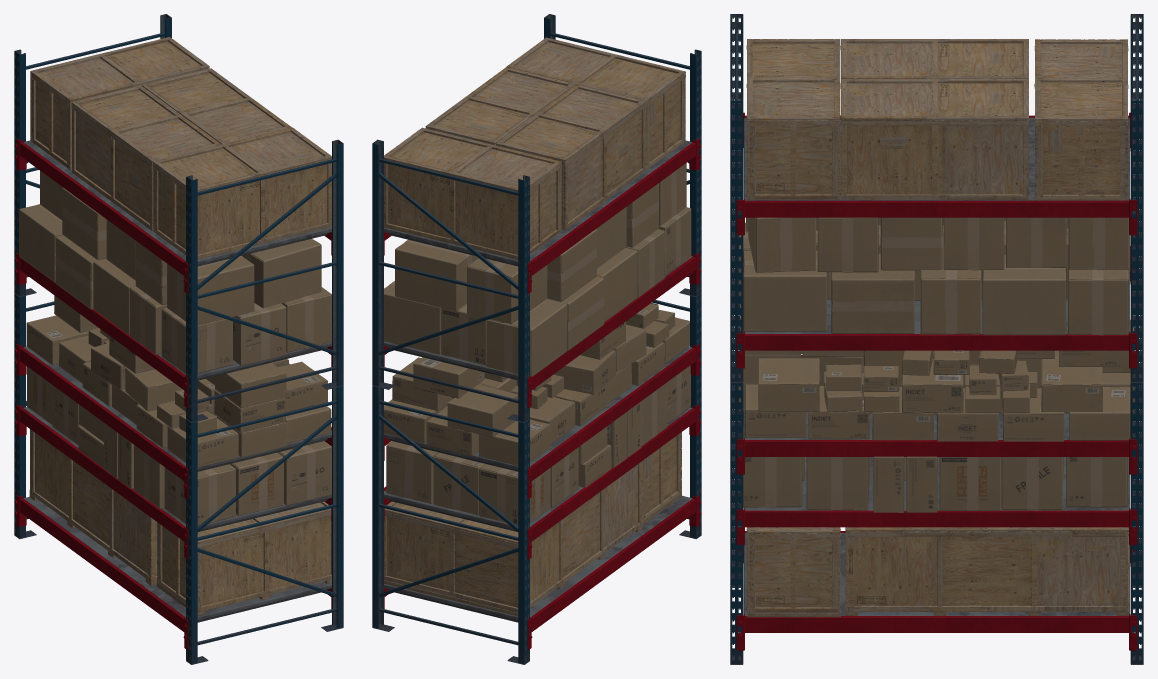
File: Rack_Large.glb
The picture shows the model from 3 angles, left to right: view 1: azimuth 30°, elevation 25°; view 2: azimuth 150°, elevation 25°; view 3: azimuth 270°, elevation 25°; orthographic projection. The views are drawn at different scales.
Parts seen in each view (by area): view 1: WoodenCrate_B2_01.003, RackLegs_A1_2x4_01.006, WoodenCrate_B2_02.003, WoodenCrate_B1.006, RackLegs_A1_2x4_01.007, WoodenCrate_B2.007, WoodenCrate_D1.005, WoodenCrate_B1_01.003, Cardbox_A2_01.003, Cardbox_A2_02.003, RackShelf_A2_2x4_01.006, RackShelf_A2_2x4_01.007 (+45 smaller); view 2: WoodenCrate_D1.005, WoodenCrate_B2.007, RackLegs_A1_2x4_01.006, WoodenCrate_B1.006, RackLegs_A1_2x4_01.007, WoodenCrate_B2_01.003, WoodenCrate_B1_01.003, Cardbox_A2_03.003, Cardbox_A2.013, Cardbox_A3_03.003, RackShelf_A2_2x4_01.006, RackShelf_A2_2x4_01.007 (+45 smaller); view 3: WoodenCrate_D1.005, WoodenCrate_B1_01.003, WoodenCrate_B2.007, WoodenCrate_B2_01.003, RackLegs_A1_2x4_01.006, WoodenCrate_B2_02.003, RackShelf_A2_2x4_01.006, WoodenCrate_B1.006, RackShelf_A2_2x4_02.007, RackShelf_A1_2x4_03.003, RackShelf_A2_2x4_02.006, RackShelf_A2_2x4_01.007 (+48 smaller).
Boxes of the visible parts, bbox=[...] form: WoodenCrate_B2_01.003: bbox=[153, 127, 331, 259]; RackLegs_A1_2x4_01.006: bbox=[14, 14, 343, 422]; WoodenCrate_B2_02.003: bbox=[157, 501, 331, 615]; WoodenCrate_B1.006: bbox=[71, 85, 221, 231]; RackLegs_A1_2x4_01.007: bbox=[14, 293, 343, 664]; WoodenCrate_B2.007: bbox=[30, 37, 209, 169]; WoodenCrate_D1.005: bbox=[29, 429, 157, 585]; WoodenCrate_B1_01.003: bbox=[142, 68, 291, 144]; Cardbox_A2_01.003: bbox=[167, 256, 254, 325]; Cardbox_A2_02.003: bbox=[242, 238, 321, 308]; RackShelf_A2_2x4_01.006: bbox=[14, 138, 331, 293]; RackShelf_A2_2x4_01.007: bbox=[14, 344, 331, 498]; WoodenCrate_D1.005: bbox=[384, 460, 643, 616]; WoodenCrate_B2.007: bbox=[384, 127, 561, 259]; RackLegs_A1_2x4_01.006: bbox=[372, 14, 701, 422]; WoodenCrate_B1.006: bbox=[496, 84, 645, 229]; RackLegs_A1_2x4_01.007: bbox=[372, 293, 701, 664]; WoodenCrate_B2_01.003: bbox=[506, 37, 685, 170]; WoodenCrate_B1_01.003: bbox=[425, 67, 575, 145]; Cardbox_A2_03.003: bbox=[395, 239, 478, 311]; Cardbox_A2.013: bbox=[486, 299, 566, 376]; Cardbox_A3_03.003: bbox=[467, 258, 547, 324]; RackShelf_A2_2x4_01.006: bbox=[384, 138, 701, 293]; RackShelf_A2_2x4_01.007: bbox=[384, 344, 701, 498]; WoodenCrate_D1.005: bbox=[845, 527, 1128, 615]; WoodenCrate_B1_01.003: bbox=[841, 79, 1028, 200]; WoodenCrate_B2.007: bbox=[1034, 39, 1128, 200]; WoodenCrate_B2_01.003: bbox=[746, 39, 840, 199]; RackLegs_A1_2x4_01.006: bbox=[730, 14, 1143, 382]; WoodenCrate_B2_02.003: bbox=[746, 527, 840, 617]; RackShelf_A2_2x4_01.006: bbox=[736, 112, 1137, 235]; WoodenCrate_B1.006: bbox=[841, 39, 1028, 155]; RackShelf_A2_2x4_02.007: bbox=[736, 508, 1137, 544]; RackShelf_A1_2x4_03.003: bbox=[736, 531, 1137, 650]; RackShelf_A2_2x4_02.006: bbox=[736, 246, 1137, 368]; RackShelf_A2_2x4_01.007: bbox=[736, 355, 1137, 474].
Bounding box in the file's own units: 2.07 × 6.02 × 4.
16 materials, 16 textured.
